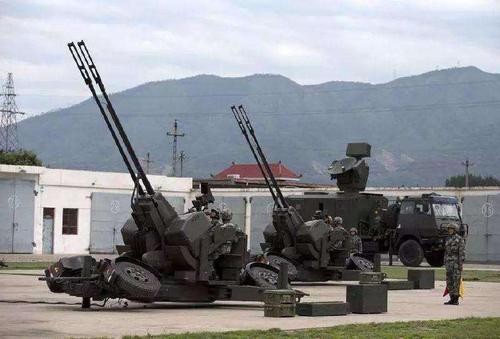MIL_SPG: (43, 41, 265, 307), (233, 105, 348, 279)
